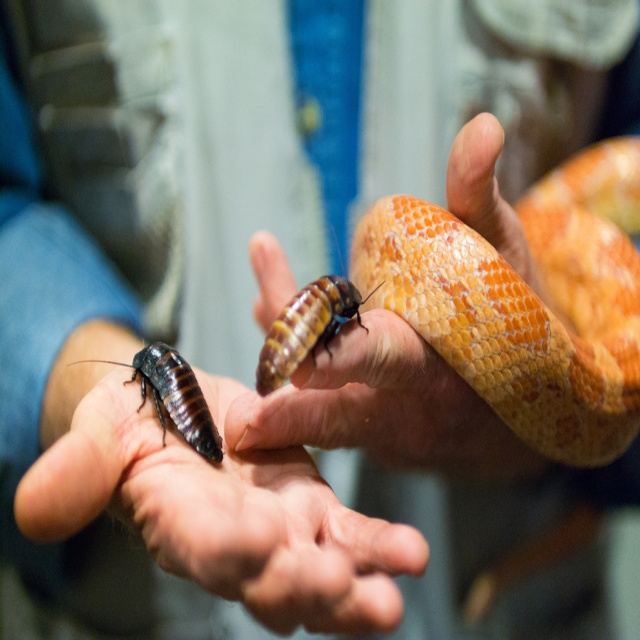Snake: (348, 134, 640, 625)
